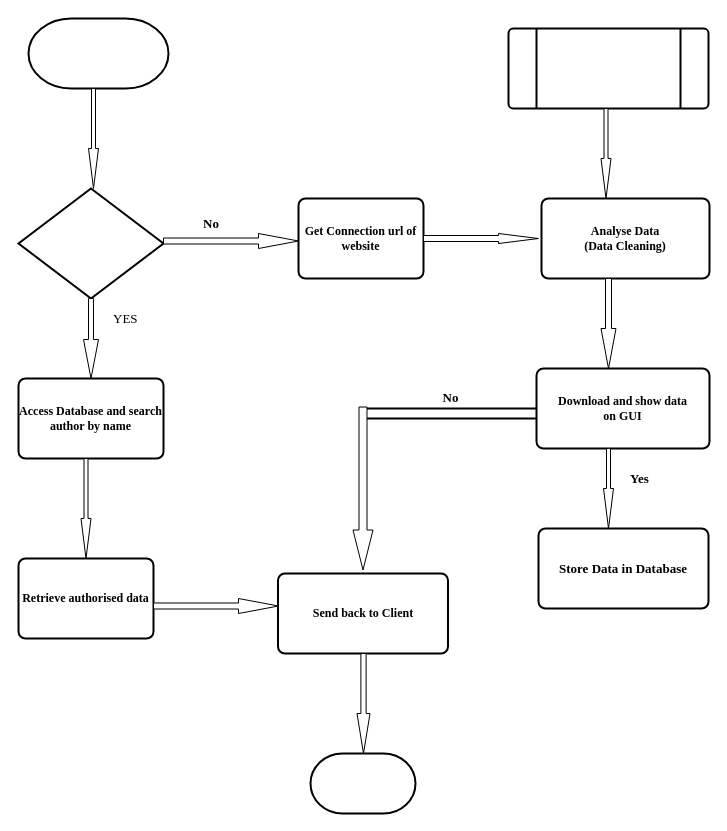
Some shapes in this 727 by 831 pixel diagram are drawn without their labels. Here are the shapes that lost their labels. From the top down, the centre of each, then its label:
the point at 98,53: Start
the point at 608,68: Extract Keywords
the point at 90,243: Web Database Authorisation
the point at 362,783: End
